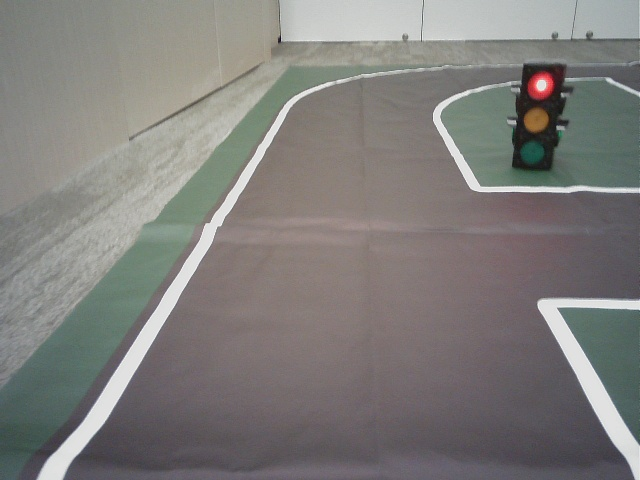red: (519, 70, 552, 166)
